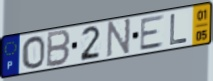2: (80, 25, 102, 63)
B: (45, 28, 72, 69)
E: (139, 14, 166, 53)
L: (168, 13, 189, 47)
N: (105, 16, 133, 59)
O: (21, 35, 46, 70)
